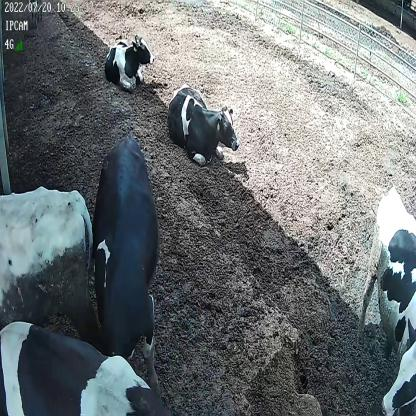cow: (89, 134, 164, 390), (2, 319, 173, 416), (357, 184, 416, 416), (166, 83, 241, 168), (103, 31, 156, 95)
